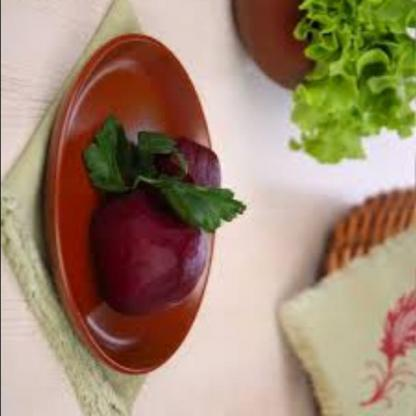beet: (95, 181, 214, 329), (154, 121, 229, 199)
